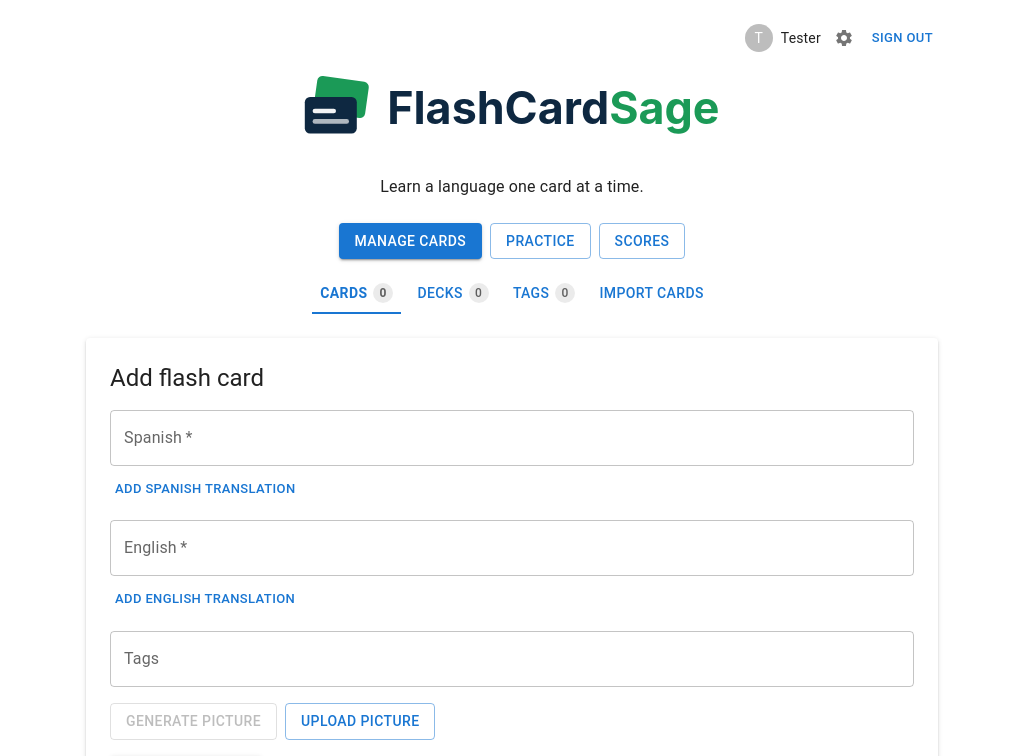
Test: auto translation › fills in the English from the Spanish, once the user stops typing
Type "el gato" into the field labelled "Spanish" at (512, 438), box [110, 410, 914, 466]
(page scrolled)
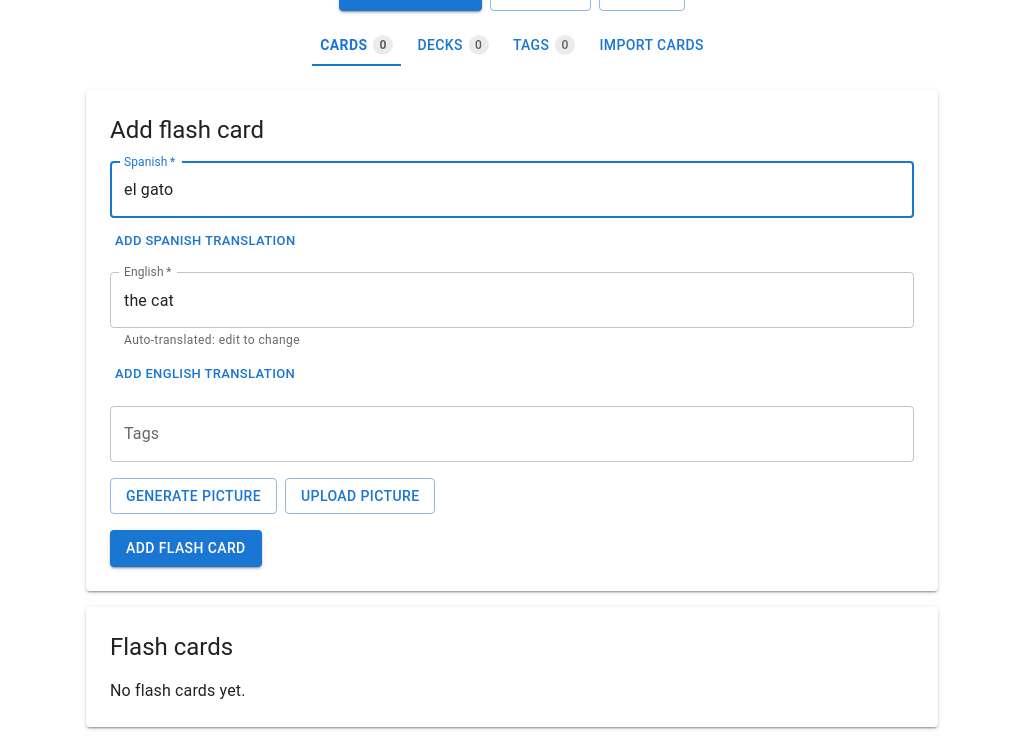
Now the field labelled "English" holds "the cat", box [110, 272, 914, 328]
Now the text "Auto-translated: edit to change" is shown, box [124, 333, 300, 347]
Click the button "Add flash card" at (186, 549), box [110, 530, 262, 567]
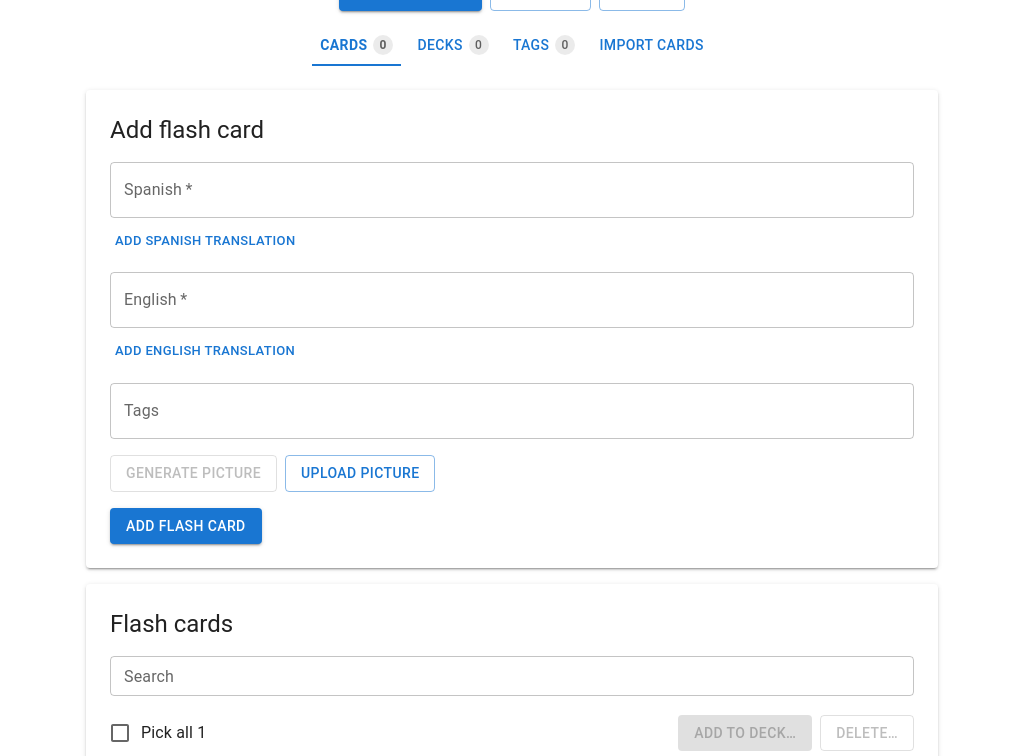
Now the field labelled "English" is empty, box [110, 272, 914, 328]
Now the text "Auto-translated: edit to change" is gone
